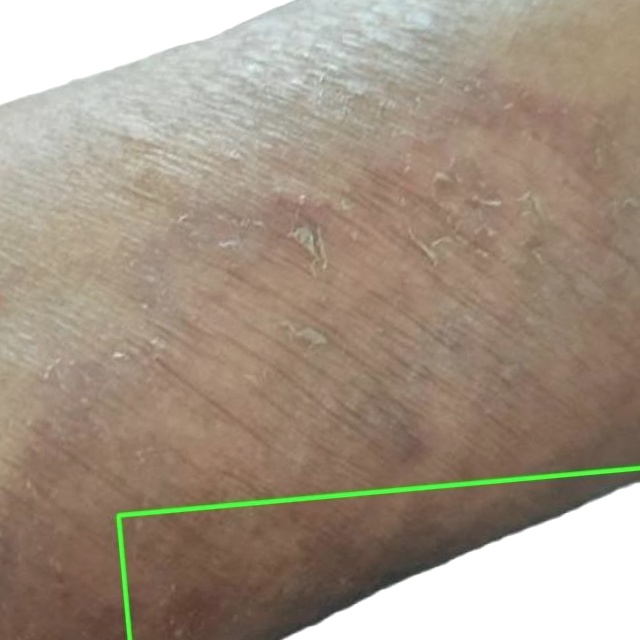Tinea Corporis: (118, 468, 639, 639)
